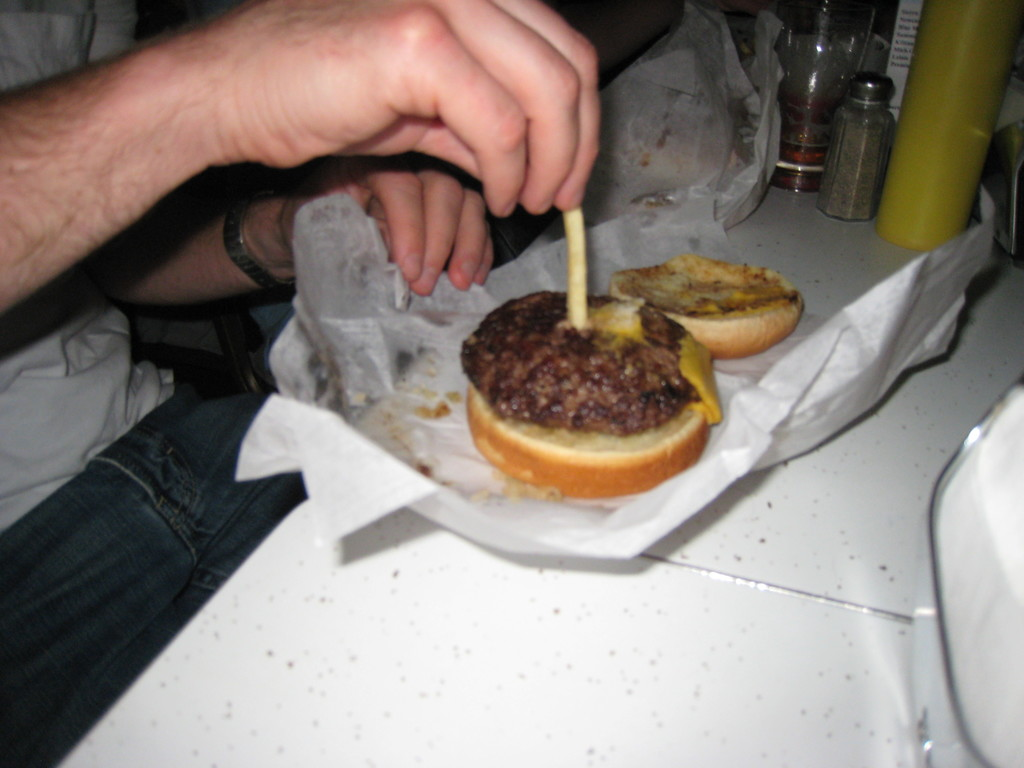Hamburger: (454, 254, 802, 506)
